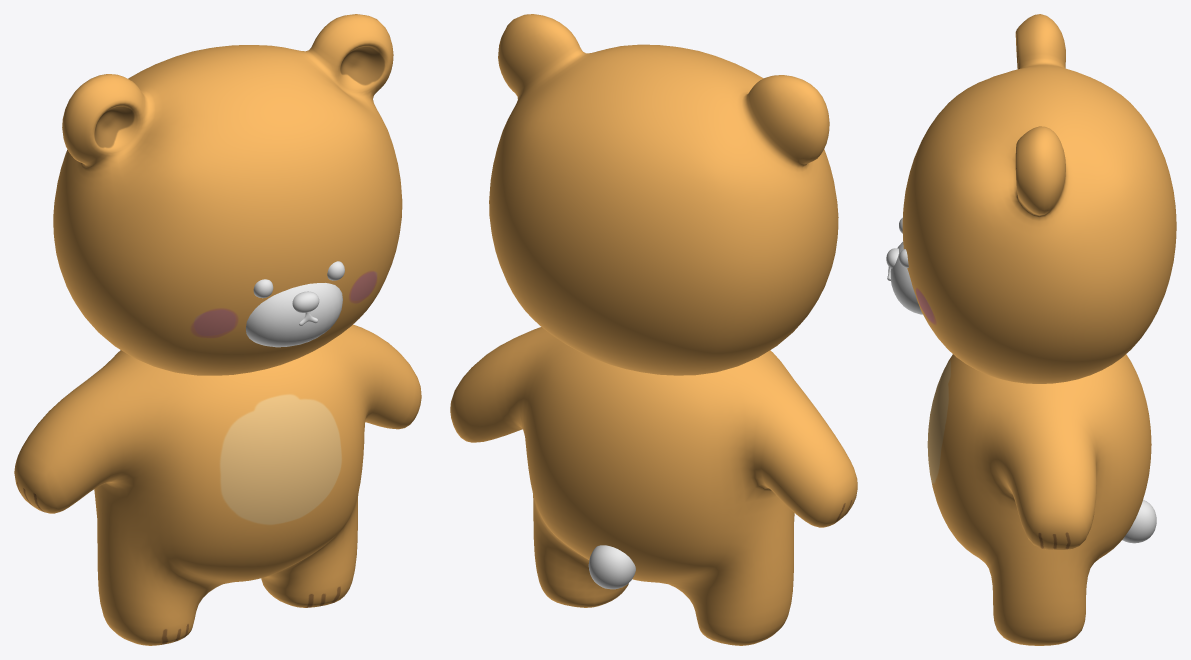
File: beer.gltf
3 views of the same model, side by side, from view 1: azimuth 30°, elevation 25°; view 2: azimuth 150°, elevation 25°; view 3: azimuth 270°, elevation 25° (orthographic). The views are drawn at different scales.
Parts seen in each view (by area): view 1: 頭, 体, 顔, 目; view 2: 頭, 体, 尻尾; view 3: 頭, 体, 顔, 尻尾.
Boxes of the visible parts, left/top/right/bottom form: 頭: left=53, top=14, right=402, bottom=375; 体: left=14, top=324, right=421, bottom=645; 顔: left=245, top=283, right=342, bottom=347; 目: left=253, top=261, right=344, bottom=298; 頭: left=489, top=14, right=838, bottom=375; 体: left=450, top=327, right=857, bottom=645; 尻尾: left=588, top=545, right=635, bottom=589; 頭: left=902, top=14, right=1176, bottom=383; 体: left=927, top=354, right=1151, bottom=645; 顔: left=890, top=241, right=922, bottom=314; 尻尾: left=1122, top=499, right=1156, bottom=543.
Bounding box in the file's own units: 1.97 × 2.71 × 1.36.
Materials: 1 (1 with a texture image).
